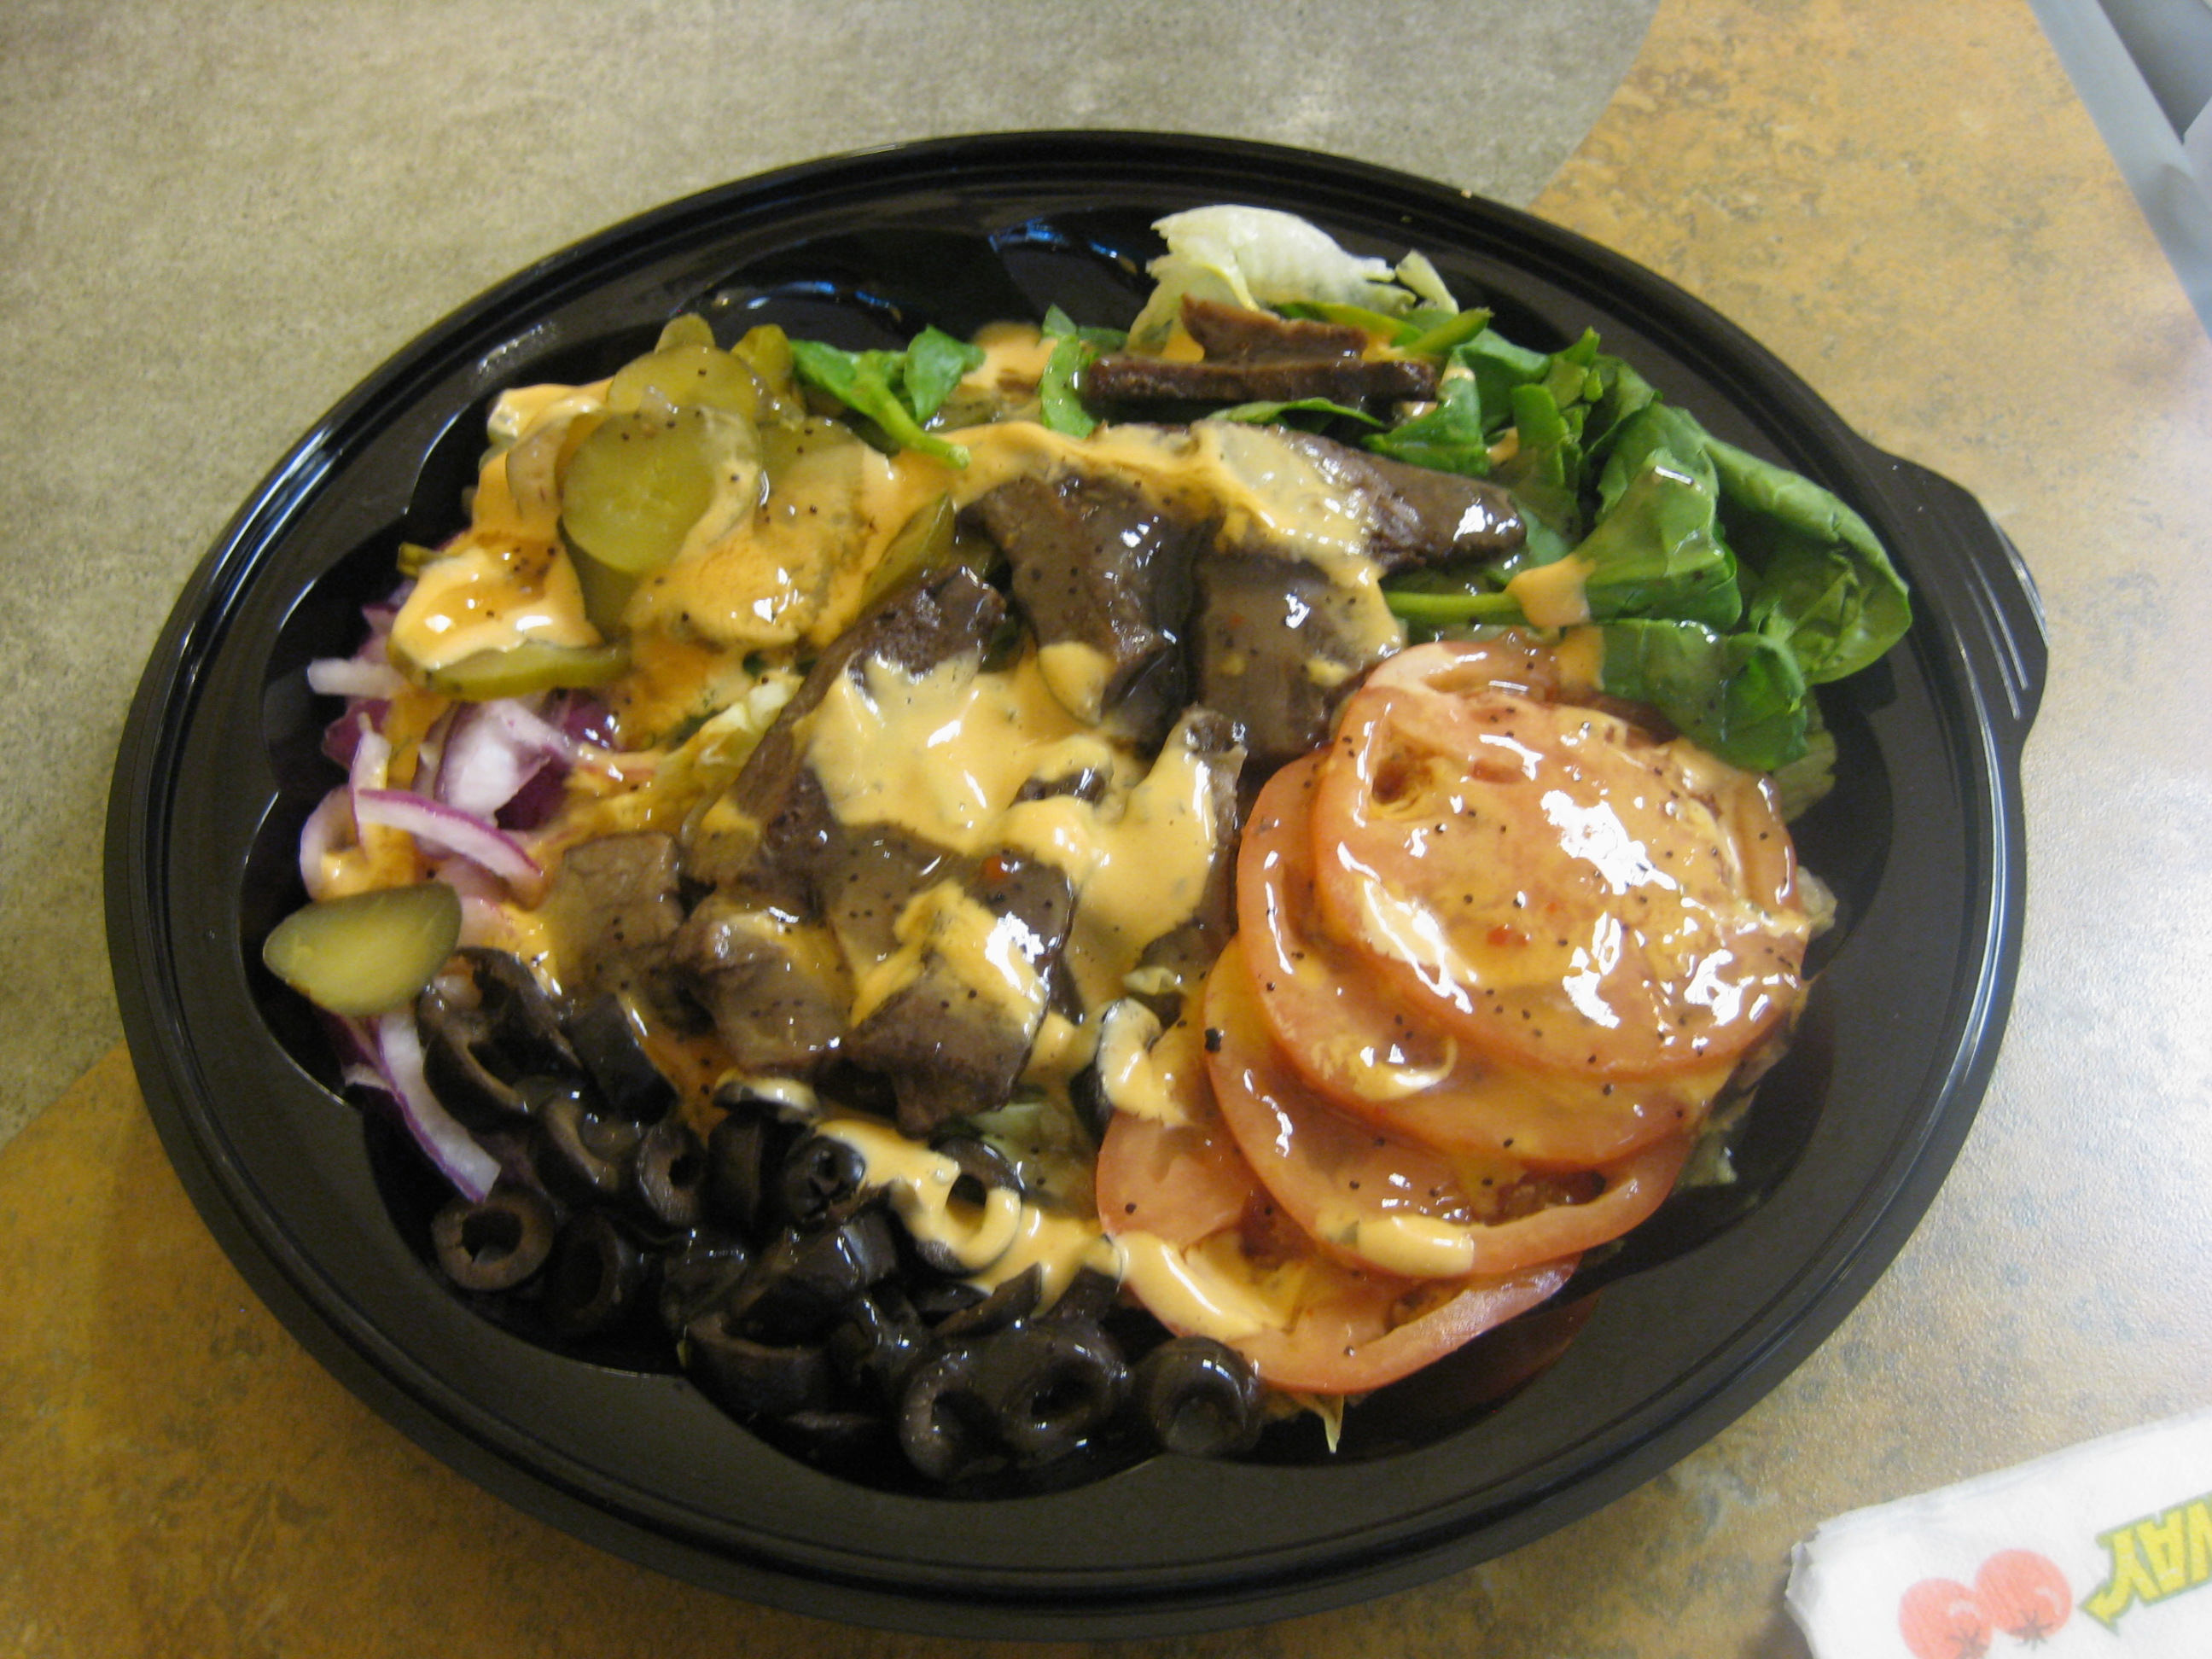salad: (319, 202, 1880, 1531)
